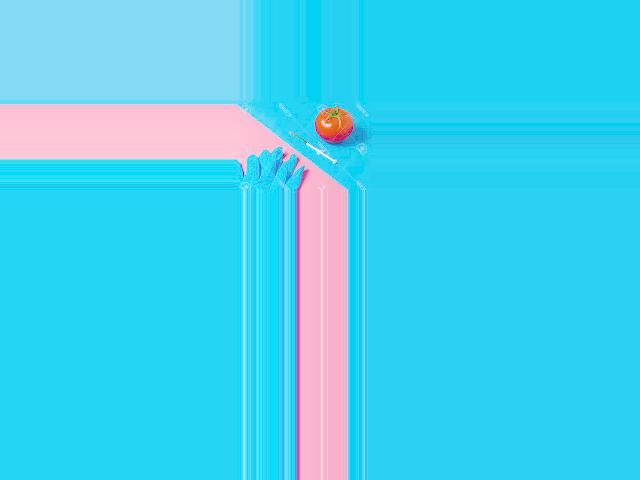tomato: (314, 108, 352, 143)
